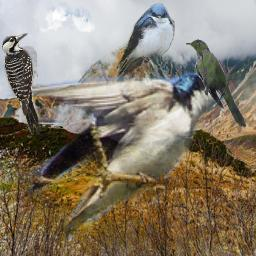Cuckoo: (186, 39, 249, 128)
Swallow: (6, 70, 232, 243), (115, 3, 175, 78)
Woodpecker: (2, 33, 41, 135)
